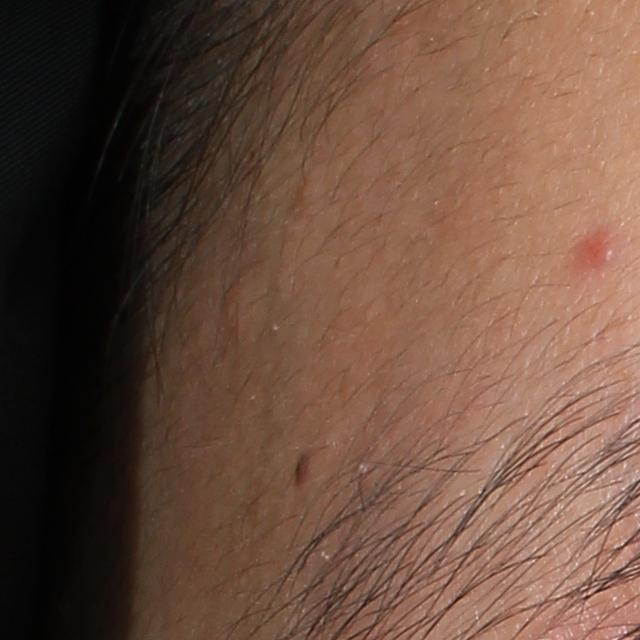papule: (218, 278, 261, 326), (572, 224, 617, 265)
